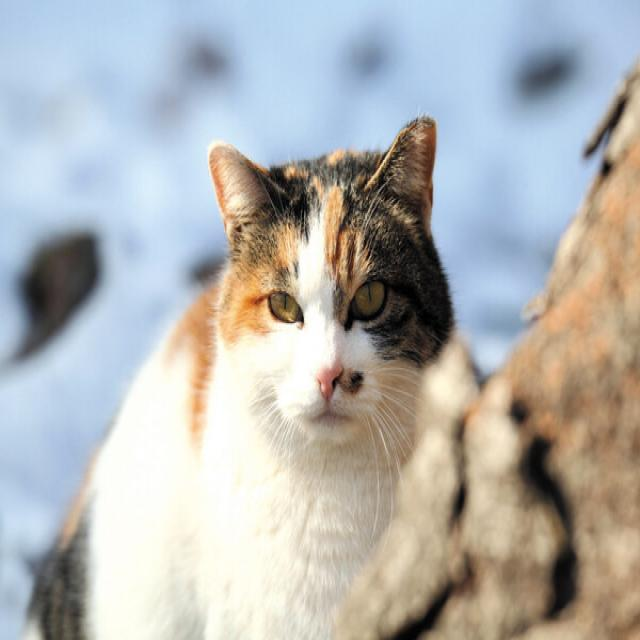cat: (5, 79, 569, 640)
